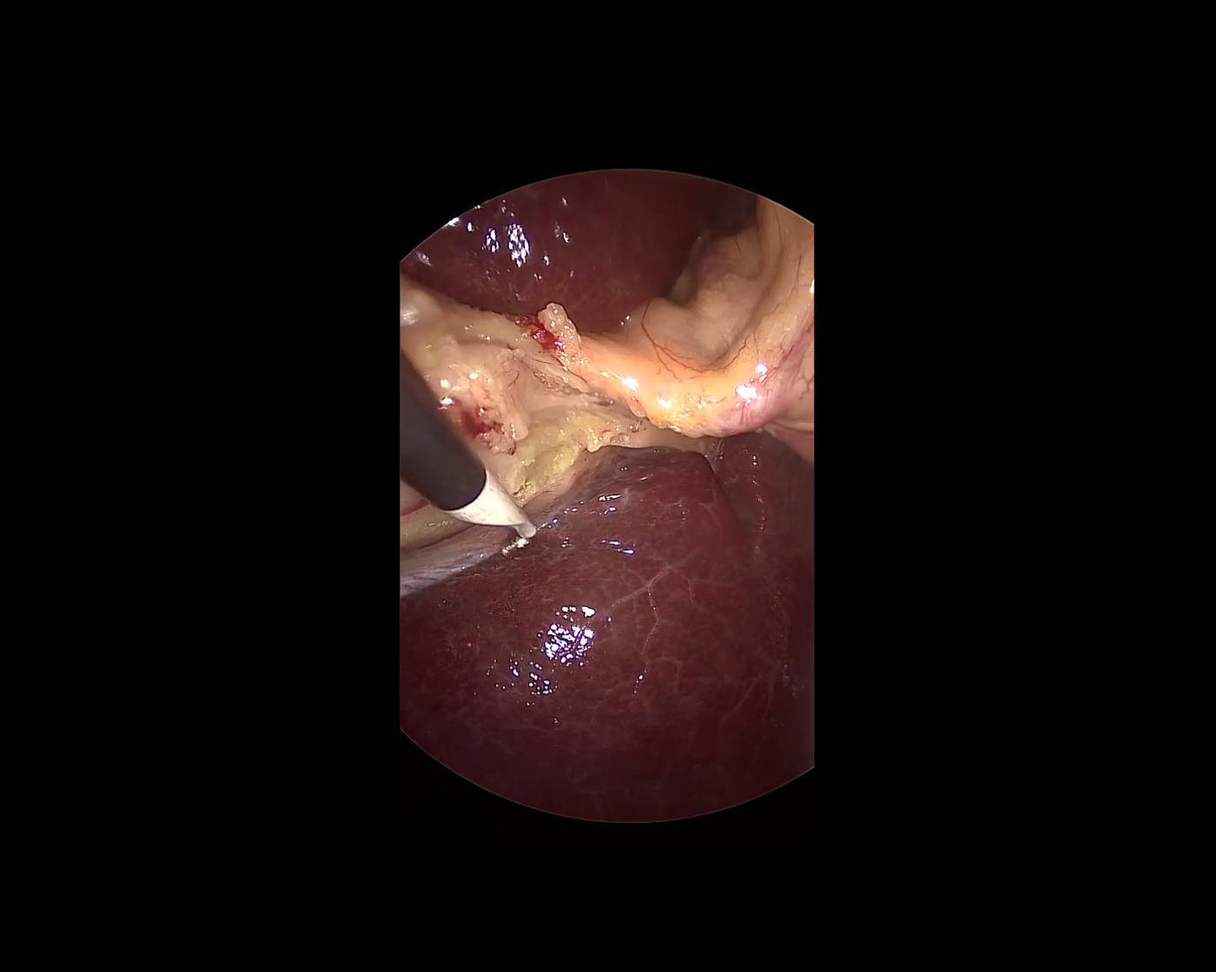Cautery: (337, 345, 542, 582)
Gallbladder: (402, 266, 603, 594)
Liver: (397, 427, 817, 823), (400, 168, 714, 331)
